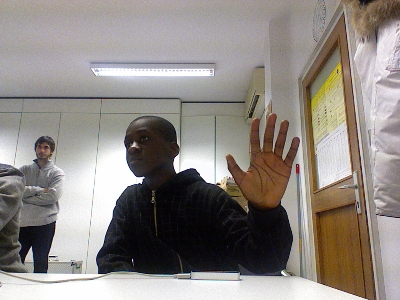布: (224, 112, 300, 209)
